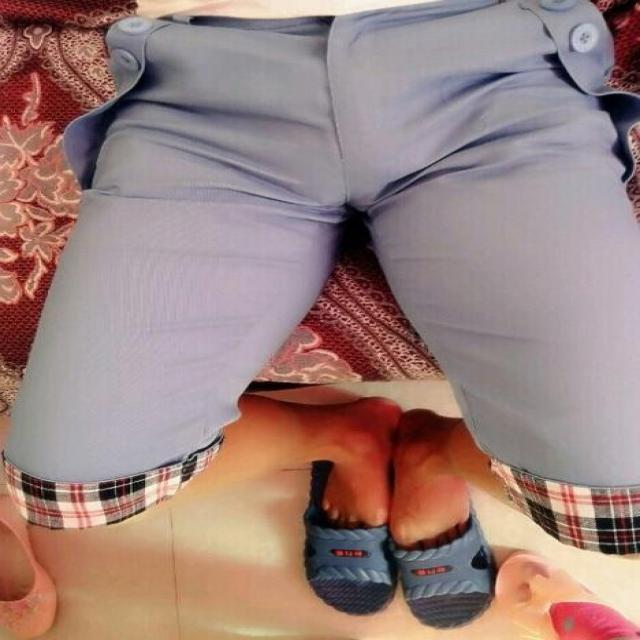shorts: (74, 22, 640, 583)
